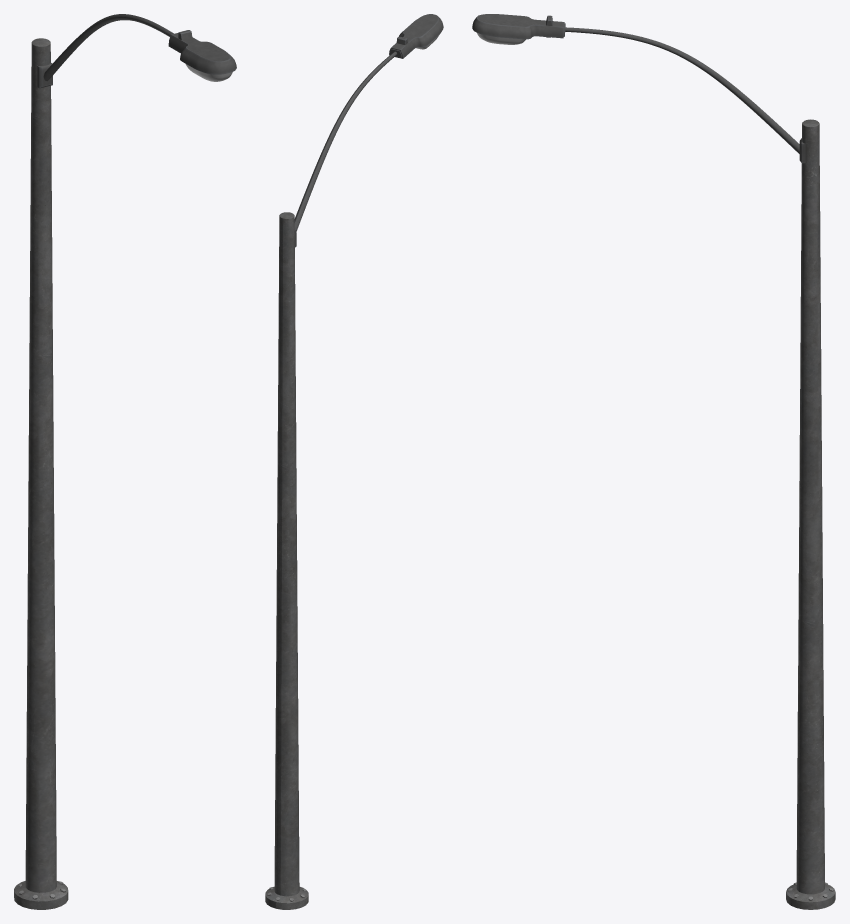
The model's file is SM_SingleLight_01.FBX.
3 views of the same model, side by side, from view 1: azimuth 30°, elevation 25°; view 2: azimuth 150°, elevation 25°; view 3: azimuth 270°, elevation 25° (orthographic). The views are drawn at different scales.
Parts seen in each view (by area): view 1: SM_SingleLight_01; view 2: SM_SingleLight_01; view 3: SM_SingleLight_01.
Boxes of the visible parts, left/top/right/bottom form: SM_SingleLight_01: left=14, top=14, right=236, bottom=909; SM_SingleLight_01: left=265, top=14, right=443, bottom=909; SM_SingleLight_01: left=472, top=14, right=835, bottom=909.
Bounding box in the file's own units: 21.03 × 154 × 414.
